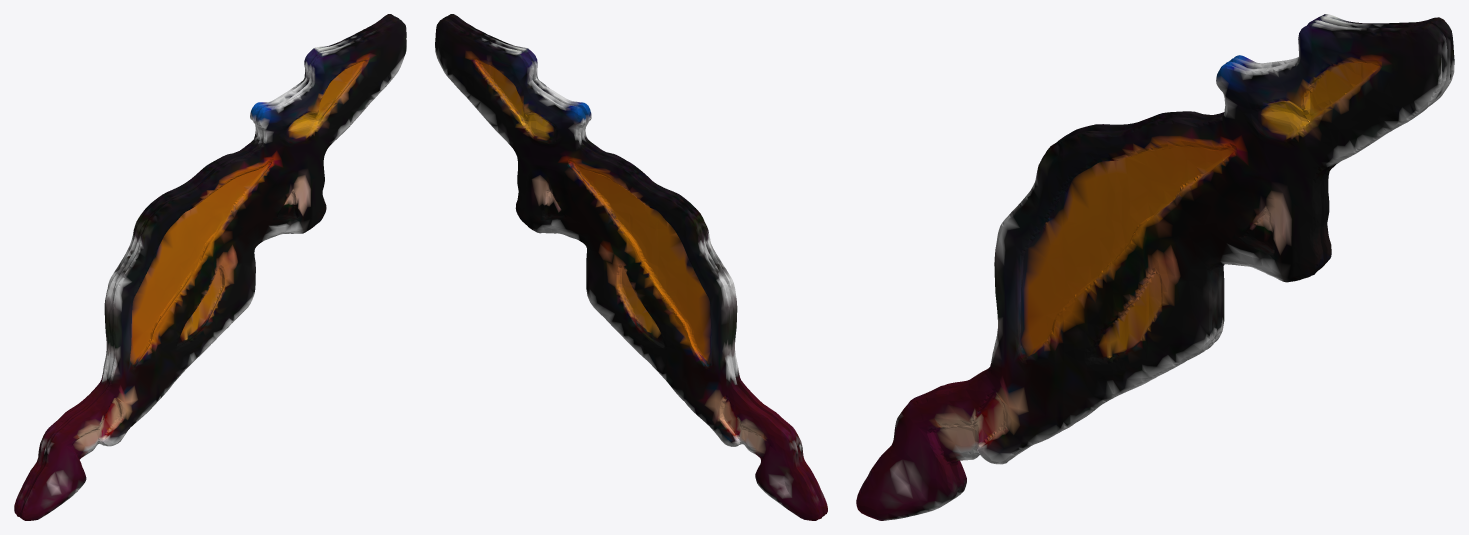
Rendered from s_weasel.glb.
3 renders of one model, left to right at view 1: azimuth 30°, elevation 25°; view 2: azimuth 150°, elevation 25°; view 3: azimuth 330°, elevation 25°, orthographic. The views are drawn at different scales.
Visible parts, largest first — view 1: geometry_0; view 2: geometry_0; view 3: geometry_0.
Part boxes in pixels (x1,y1,x2,y2): geometry_0: (14,14,406,520); geometry_0: (435,14,827,520); geometry_0: (856,14,1454,520).
Bounding box in the file's own units: 0.5938 × 0.6063 × 0.032.
